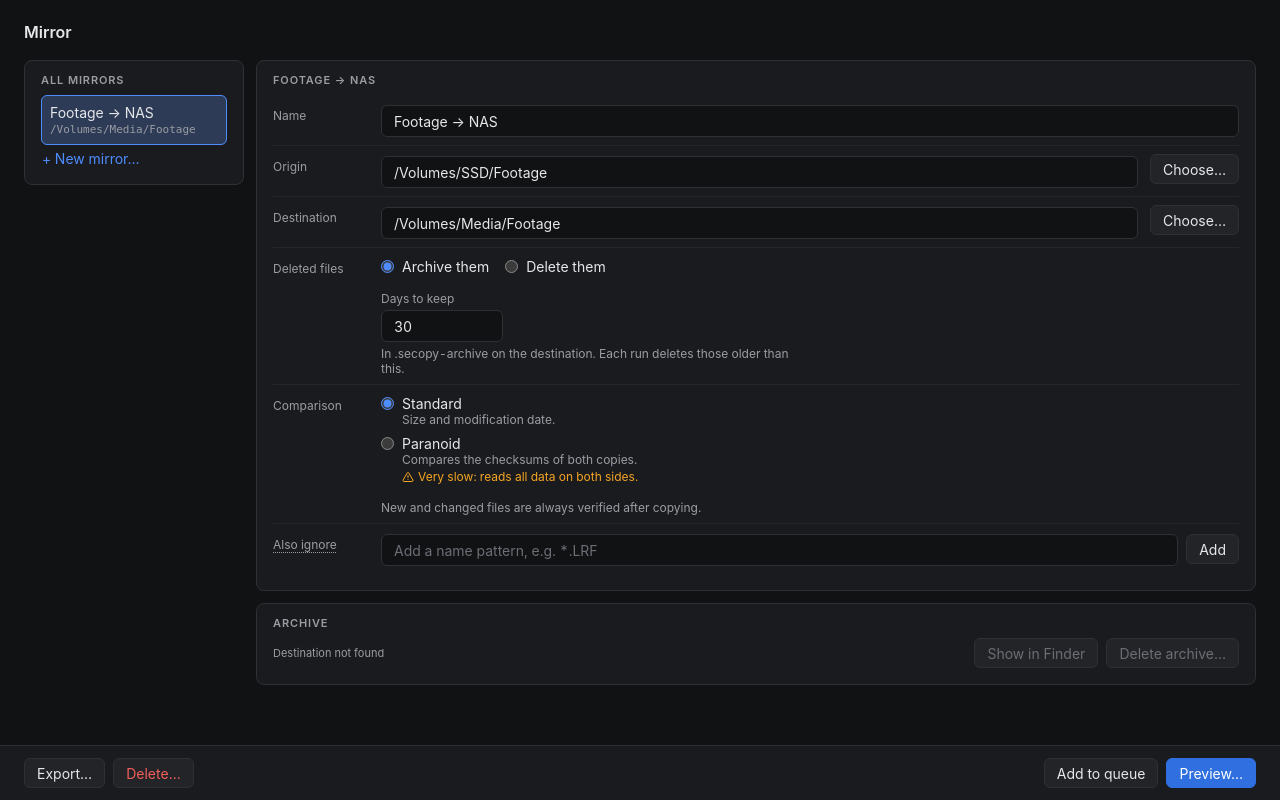
Test: MirrorScreen › the archive is looked at again after Choose… for the destination, even the same one (#195)
The width and height of the screenshot is (1280, 800).
expect the text "Destination not found" is shown: met, box x1=273 y1=646 x2=384 y2=660
Click the 2nd button "Choose…" at point(1194, 220), box x1=1150 y1=205 x2=1239 y2=235
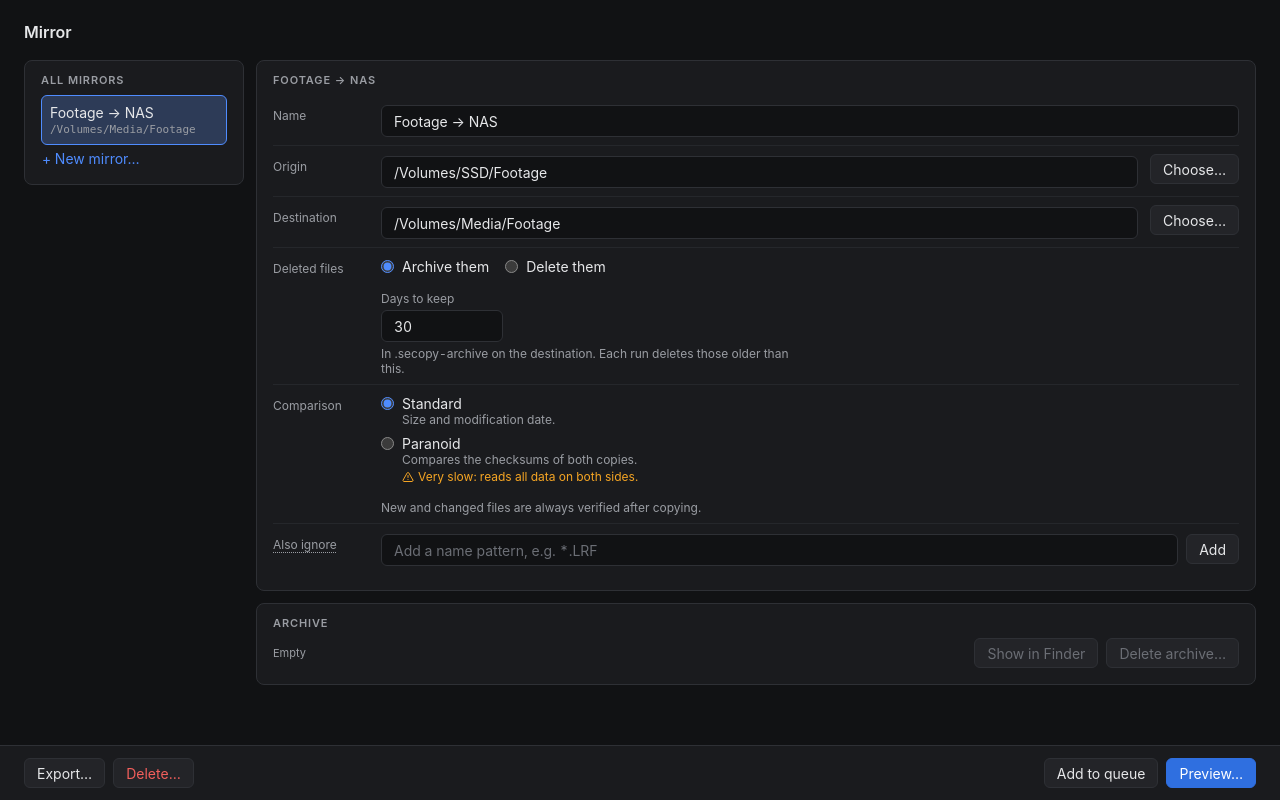
expect the text "Empty" is shown: met, box x1=273 y1=646 x2=306 y2=660
